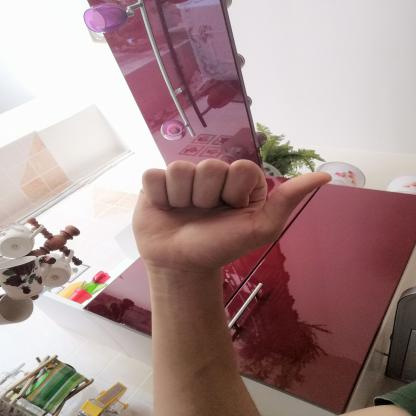DAD: (120, 150, 344, 282)
